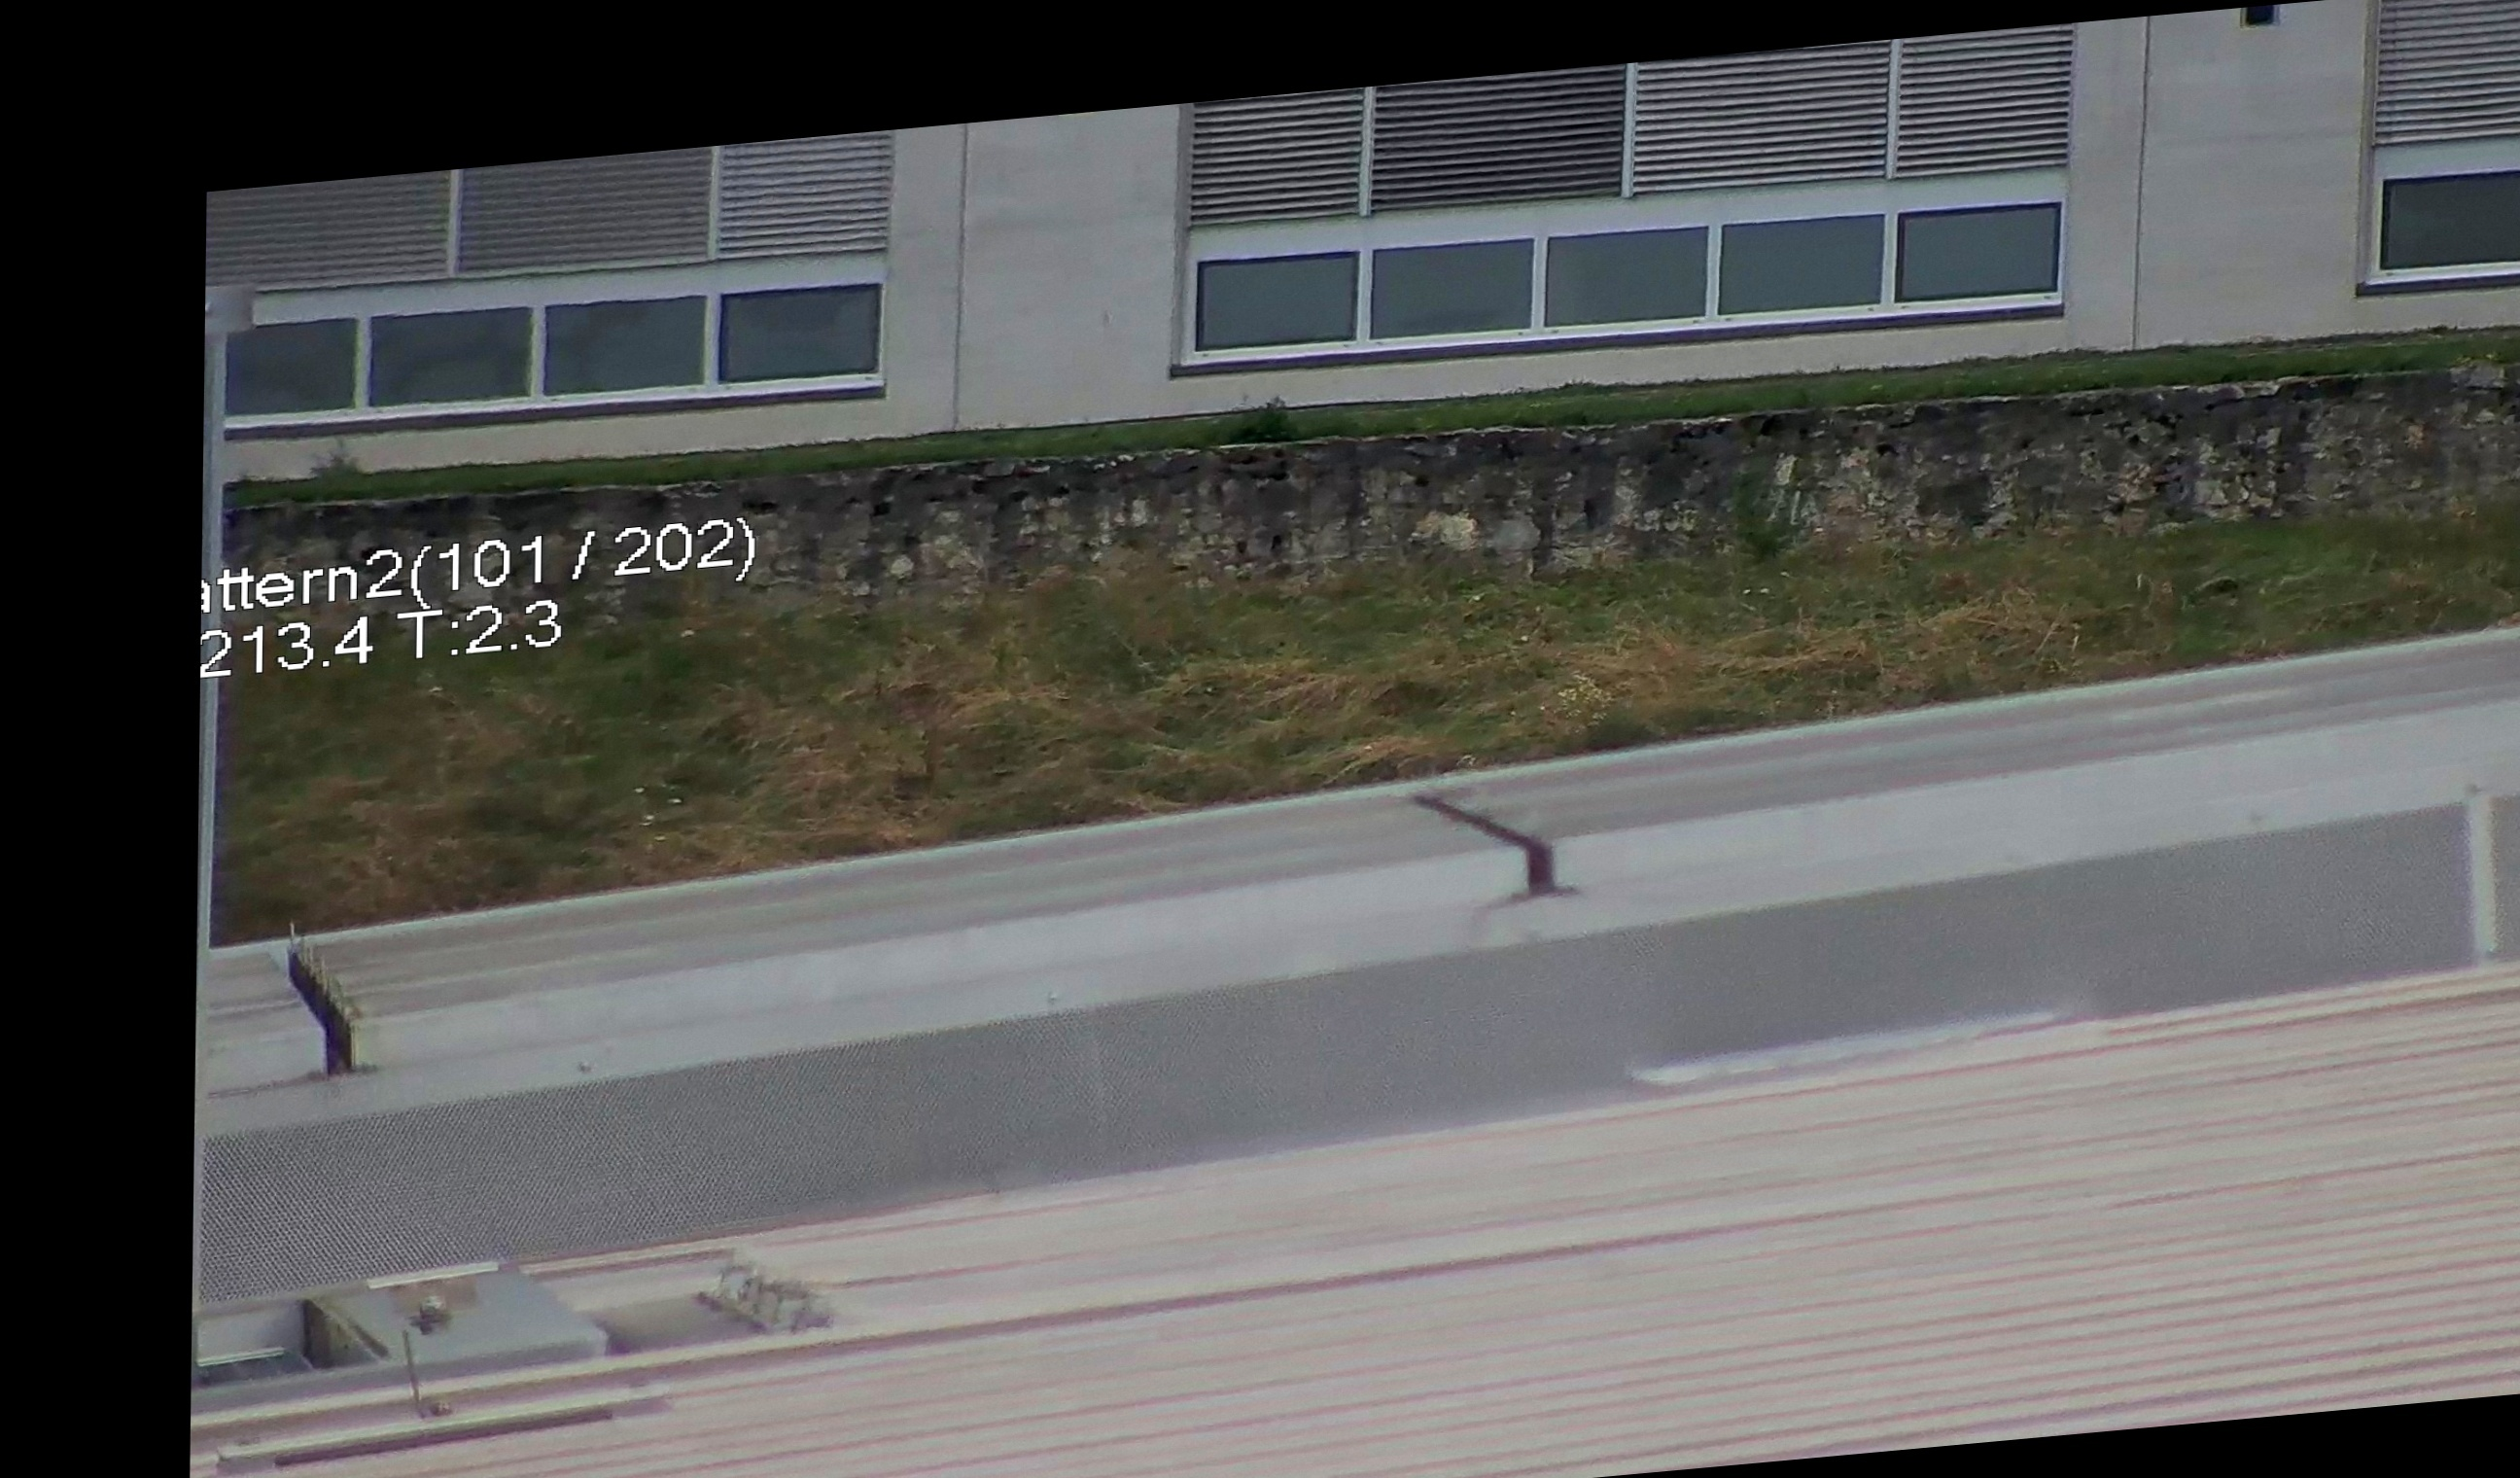Other: (266, 904, 380, 1093)
